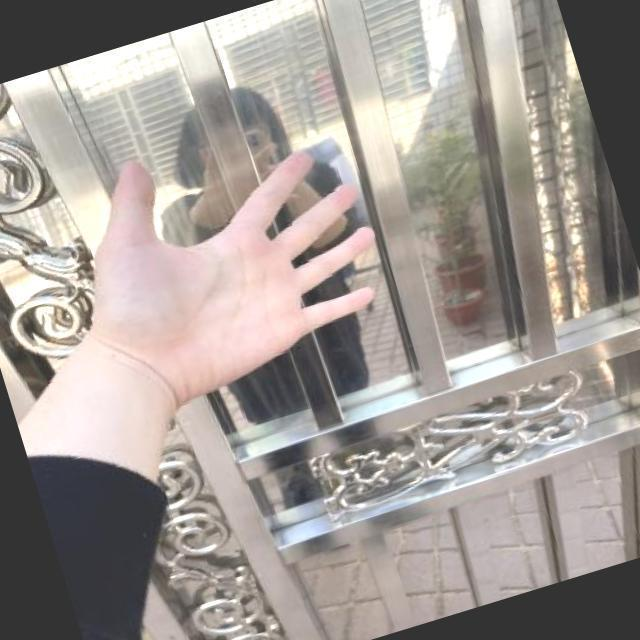hand: (103, 136, 380, 372)
